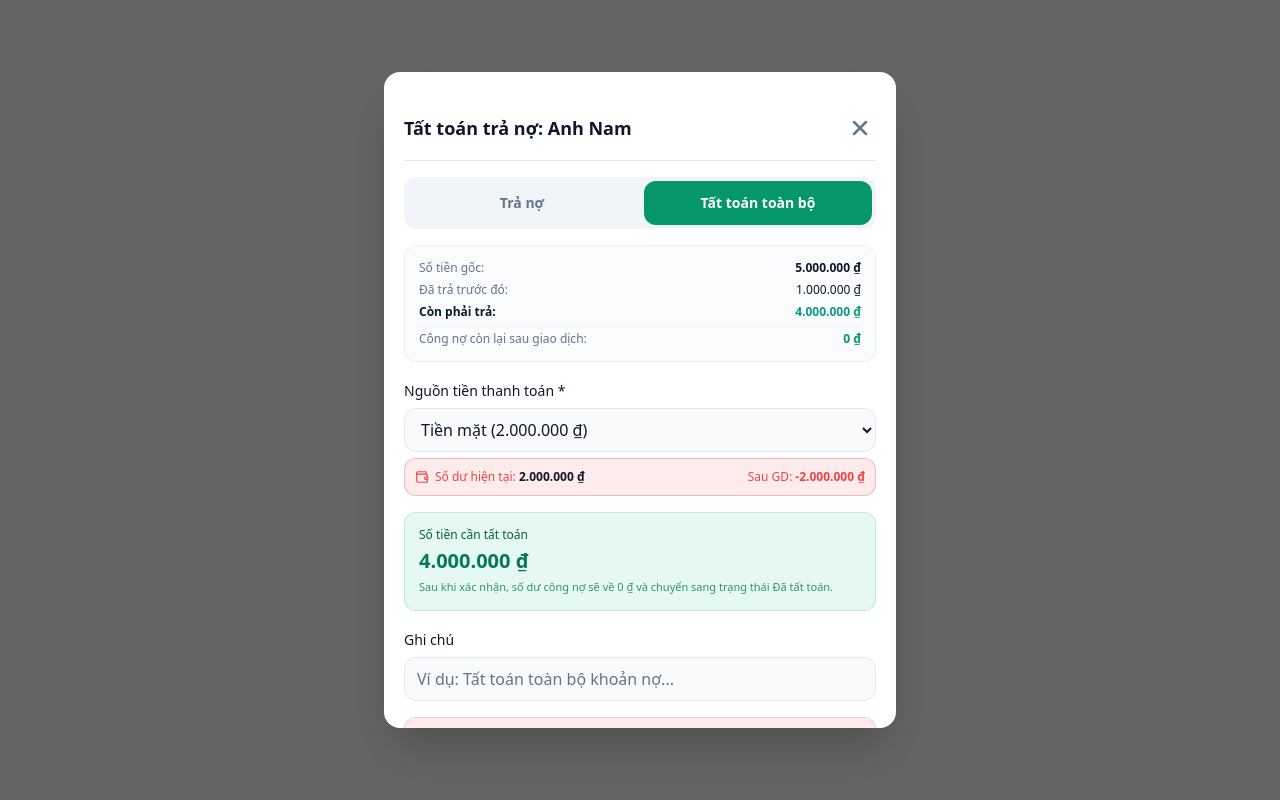
it: PaymentDialog Component Test › tự động lấy số dư công nợ còn lại ở chế độ tất toán và gửi payload kèm idempotencyKey
Later steps or results of the test are not shown.
Step 1. Select "Ngân hàng (10.000.000 ₫)" in the dropdown labelled "Nguồn tiền thanh toán *" → (640, 430), box [404,408,876,452]
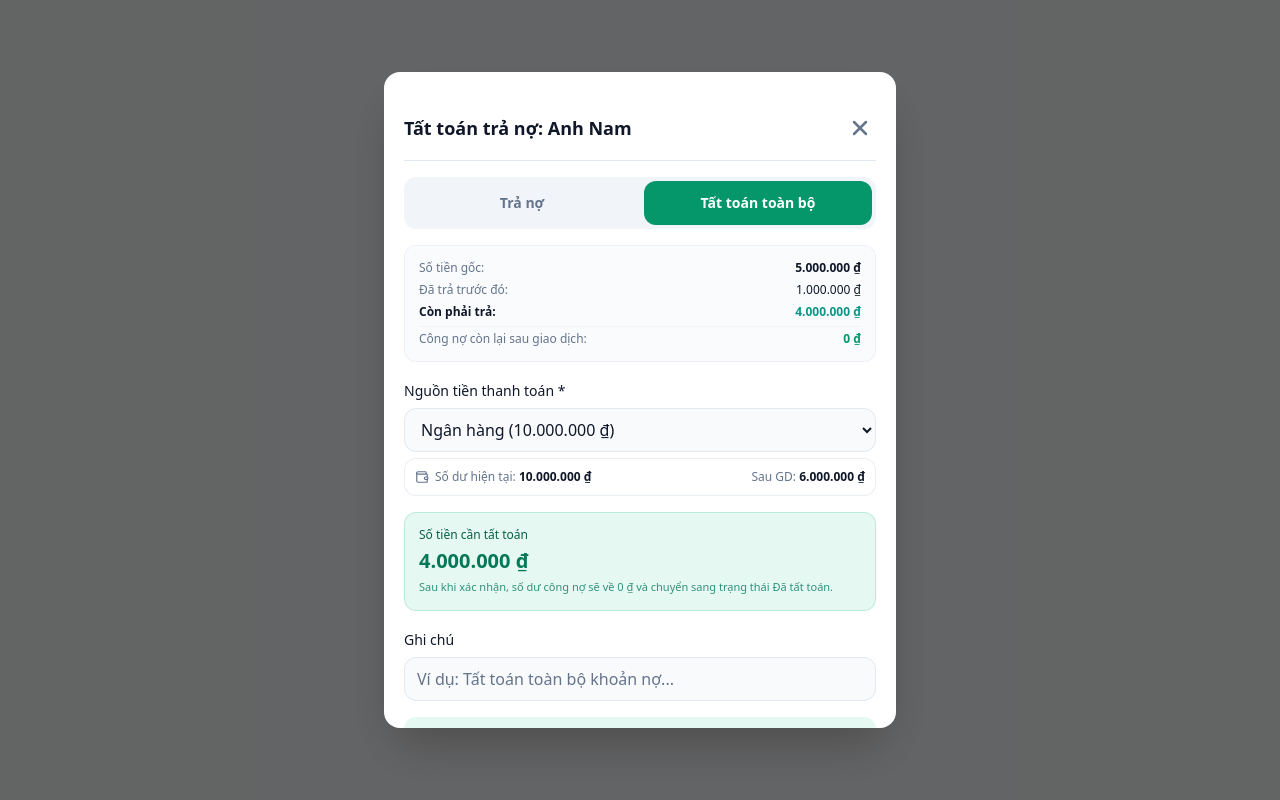
Step 2. Type "Tất toán hết" into the field labelled "Ghi chú" → (640, 678), box [404,656,876,700]
(page scrolled)
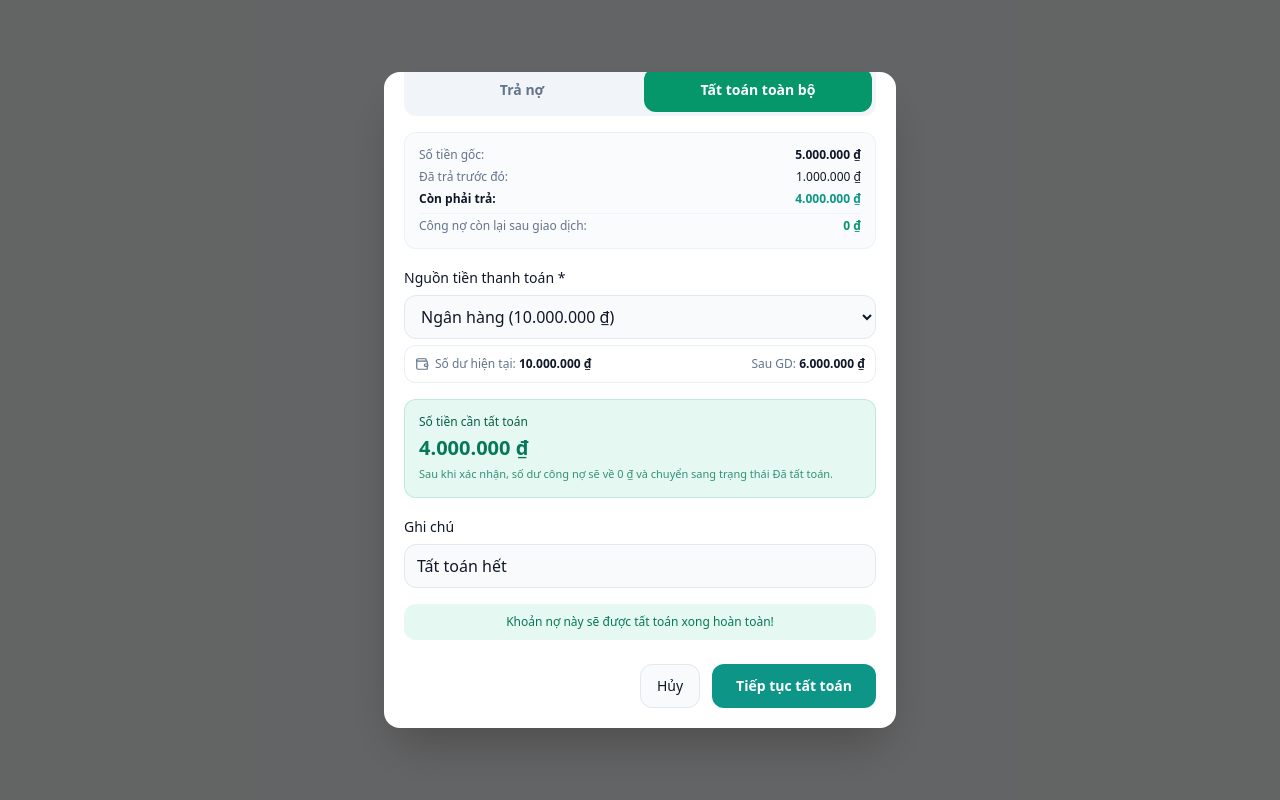
Step 3. Click the button "Tiếp tục tất toán" → (794, 686), box [712,664,876,708]
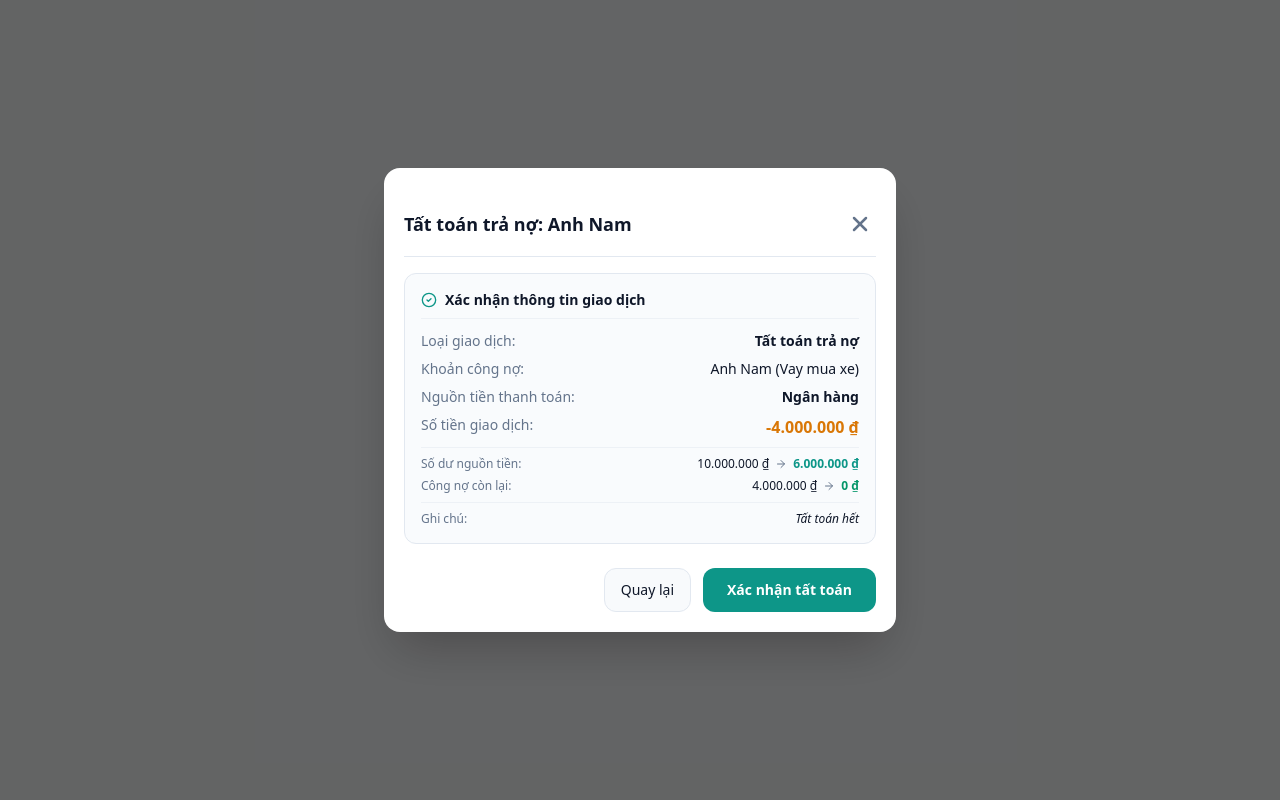
Now the text "Xác nhận thông tin giao dịch" is shown, box [445,290,646,310]
